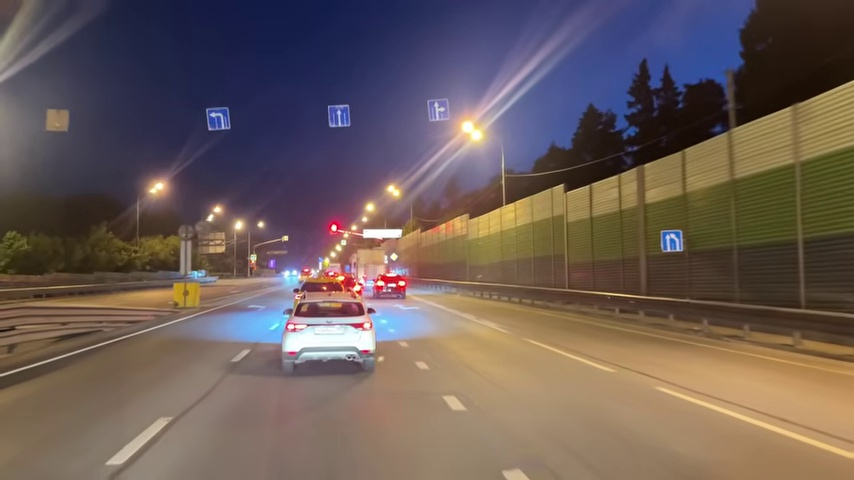acesa: (458, 117, 487, 147), (45, 110, 67, 132), (208, 203, 227, 228), (146, 178, 169, 198), (206, 203, 225, 222), (385, 182, 404, 199), (362, 200, 379, 219), (232, 218, 246, 234), (255, 218, 268, 233)
